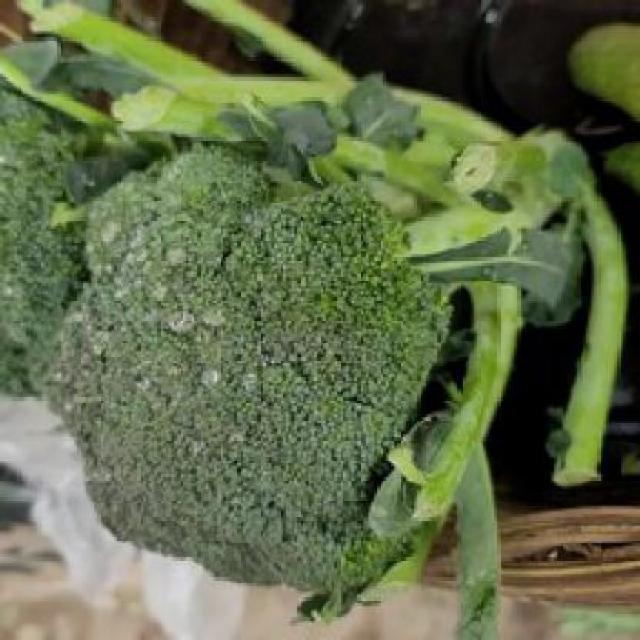broccoli: (40, 109, 569, 566)
